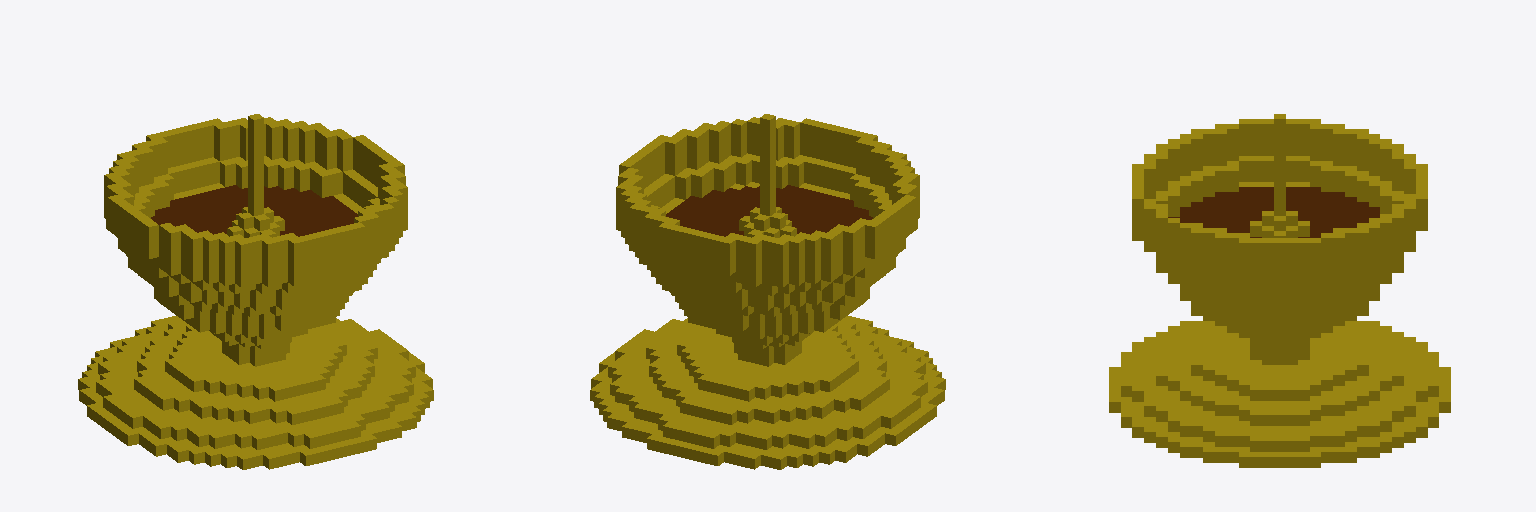
3 views of the same model, side by side, from view 1: azimuth 30°, elevation 25°; view 2: azimuth 150°, elevation 25°; view 3: azimuth 270°, elevation 25° (orthographic).
Visible parts, largest first — view 1: object 1; view 2: object 1; view 3: object 1.
Part boxes in pixels (x1,y1,x2,y2): object 1: (78,114,433,469); object 1: (590,114,945,469); object 1: (1109,114,1450,467).
Size of the model in its own units: 2.9 by 2.6 by 2.9.
1 materials, 1 textured.